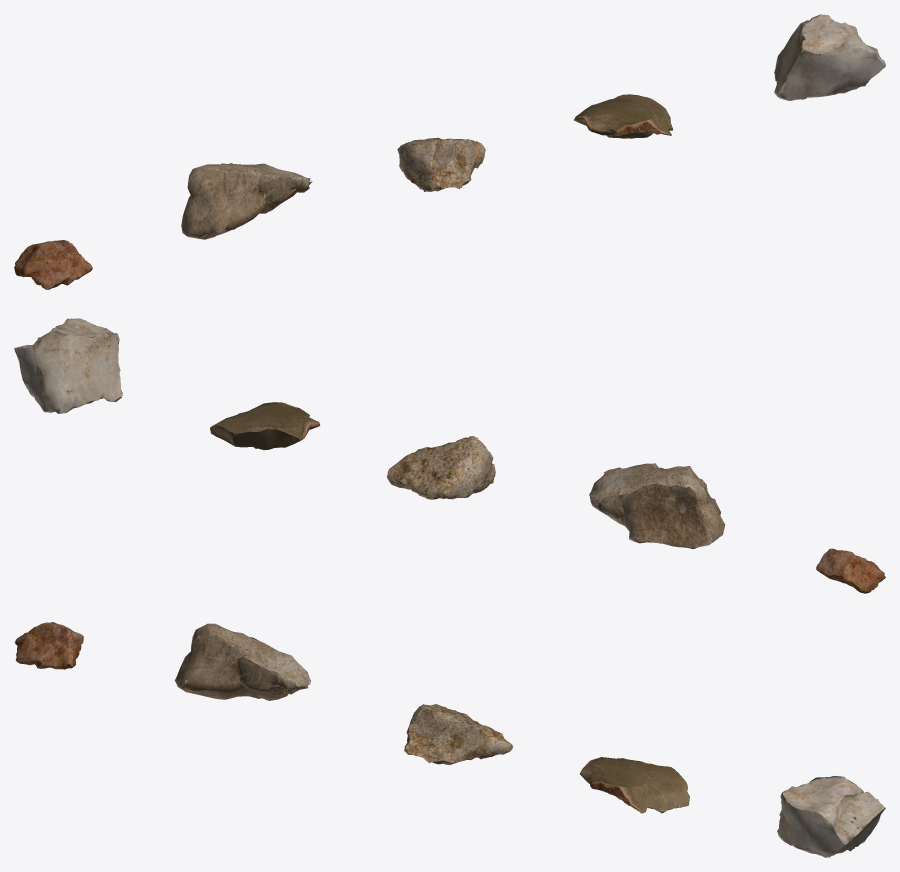
File: namaqualand_stones_01_lod0.glb
The picture shows the model from 3 angles, top to bottom: view 1: azimuth 30°, elevation 25°; view 2: azimuth 150°, elevation 25°; view 3: azimuth 330°, elevation 25°; orthographic projection.
Visible parts, largest first — view 1: namaqualand_stones_01_e, namaqualand_stones_01_b, namaqualand_stones_01_c, namaqualand_stones_01_d, namaqualand_stones_01_a; view 2: namaqualand_stones_01_b, namaqualand_stones_01_e, namaqualand_stones_01_c, namaqualand_stones_01_d, namaqualand_stones_01_a; view 3: namaqualand_stones_01_b, namaqualand_stones_01_e, namaqualand_stones_01_c, namaqualand_stones_01_d, namaqualand_stones_01_a.
Boxes of the visible parts, x1,y1,x2,y2 form: namaqualand_stones_01_e: [774, 14, 885, 100]; namaqualand_stones_01_b: [181, 163, 312, 239]; namaqualand_stones_01_c: [397, 137, 485, 191]; namaqualand_stones_01_d: [573, 94, 672, 138]; namaqualand_stones_01_a: [14, 240, 92, 289]; namaqualand_stones_01_b: [589, 463, 725, 549]; namaqualand_stones_01_e: [14, 318, 122, 413]; namaqualand_stones_01_c: [386, 436, 495, 499]; namaqualand_stones_01_d: [210, 402, 320, 450]; namaqualand_stones_01_a: [816, 548, 885, 593]; namaqualand_stones_01_b: [175, 623, 310, 700]; namaqualand_stones_01_e: [777, 775, 885, 857]; namaqualand_stones_01_c: [404, 704, 512, 764]; namaqualand_stones_01_d: [580, 757, 689, 813]; namaqualand_stones_01_a: [14, 622, 83, 669].
Size of the model in its own units: 1.02 by 0.0835 by 0.1122.
Materials: 1 (1 with a texture image).
